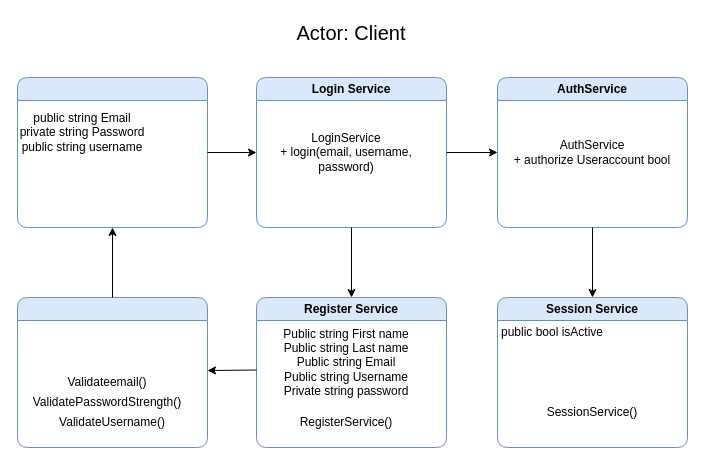
Image size: 705x465. Some labels were removed from this diagram. The box of each missing label's shape, as (x1, y1, x2, y2) in pixels:
UserAccount: (16, 76, 208, 228)
ValidationService: (16, 296, 208, 448)
